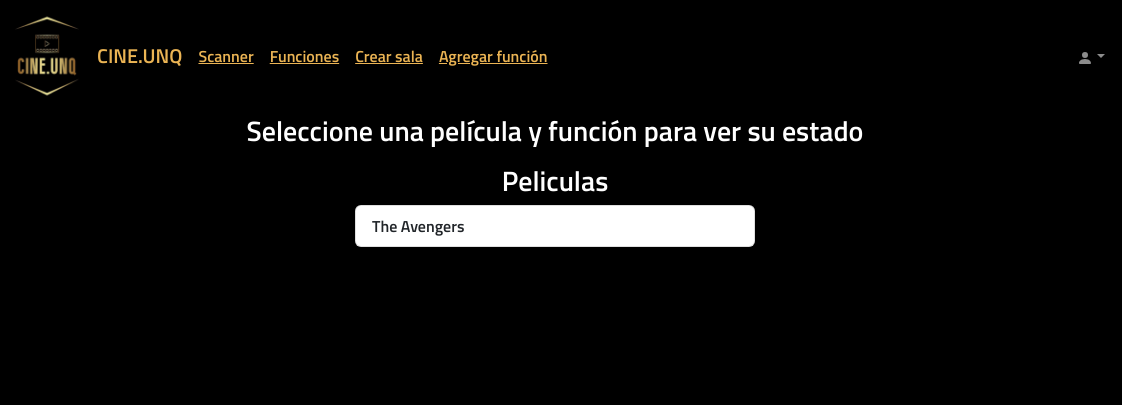
Test: admin select one movie and functions display availables
What coordinates should you click on to do the following:
click the button with test id "seleccion-pelicula-item"
I would click on:
 (418, 226)
Its box is [355, 205, 755, 247].
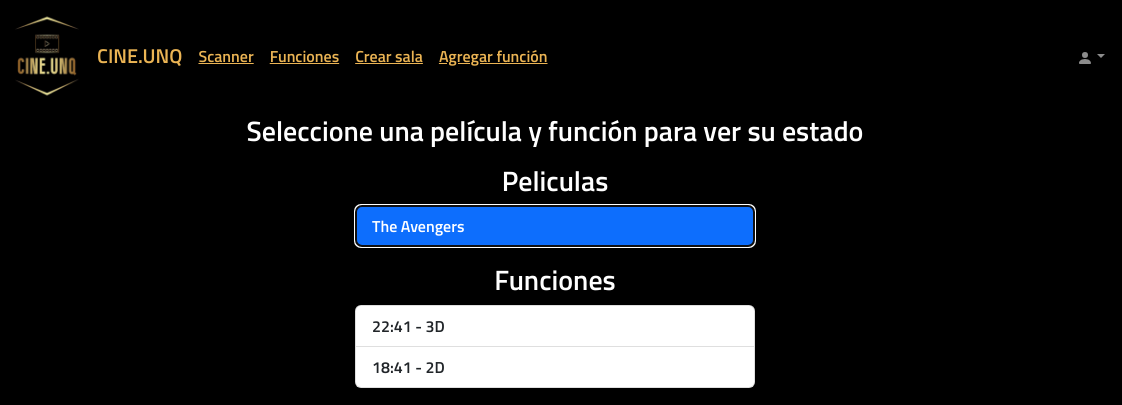
Now the number of buttons with test id "seleccion-function-item" is 2, box [355, 305, 755, 347]; [355, 347, 755, 388]
